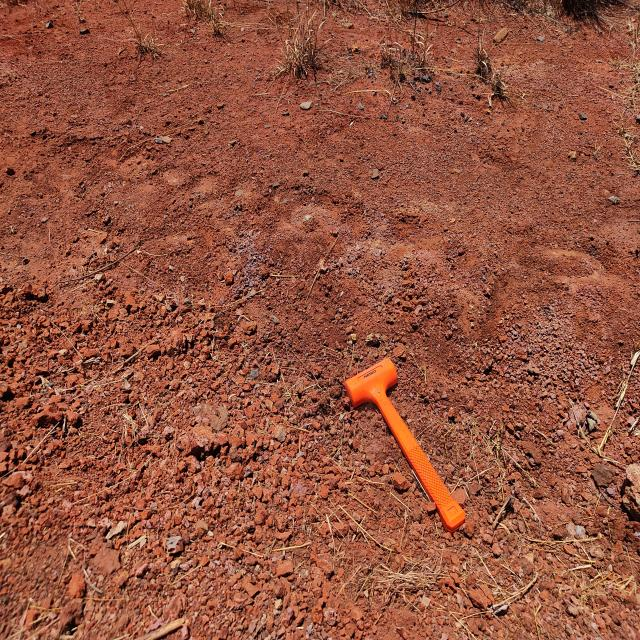Orange_hammer: (344, 357, 466, 533)
